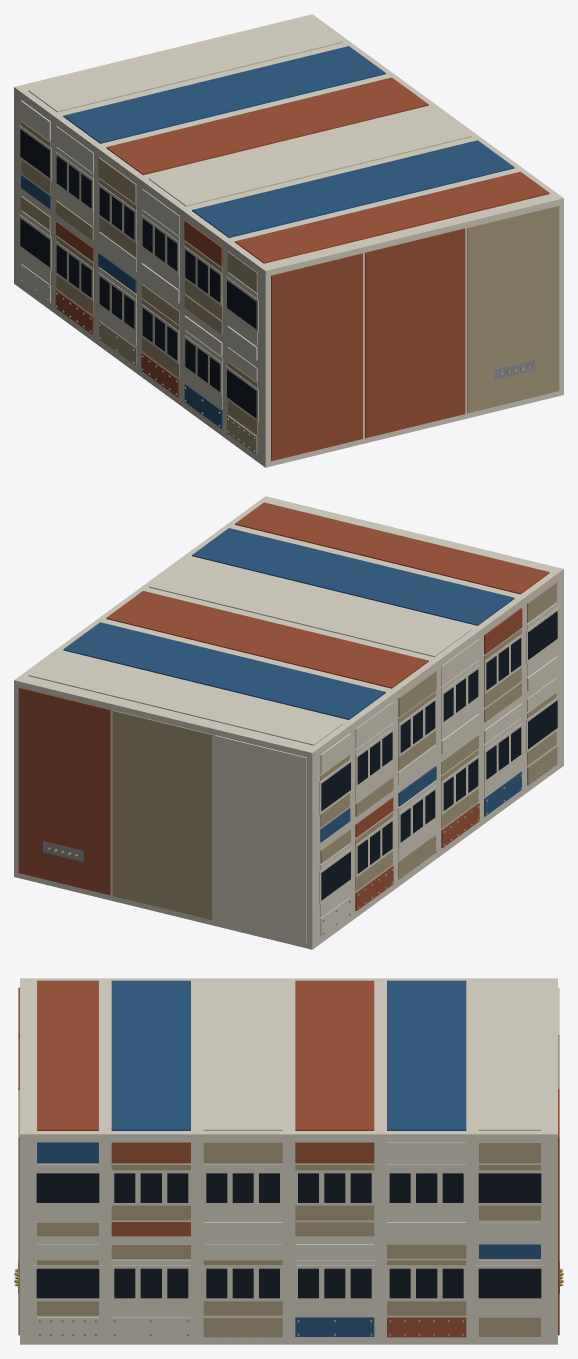
The model's file is pax100_shell.obj.
The picture shows the model from 3 angles, top to bottom: view 1: azimuth 30°, elevation 25°; view 2: azimuth 150°, elevation 25°; view 3: azimuth 270°, elevation 25°; orthographic projection. The views are drawn at different scales.
Visible parts, largest first — view 1: pax100_shell; view 2: pax100_shell; view 3: pax100_shell.
Boxes of the visible parts, left/top/right/bottom form: pax100_shell: left=14, top=14, right=563, bottom=467; pax100_shell: left=14, top=496, right=563, bottom=949; pax100_shell: left=14, top=978, right=563, bottom=1344.
Size of the model in its own units: 7.11 by 4.46 by 10.44.
